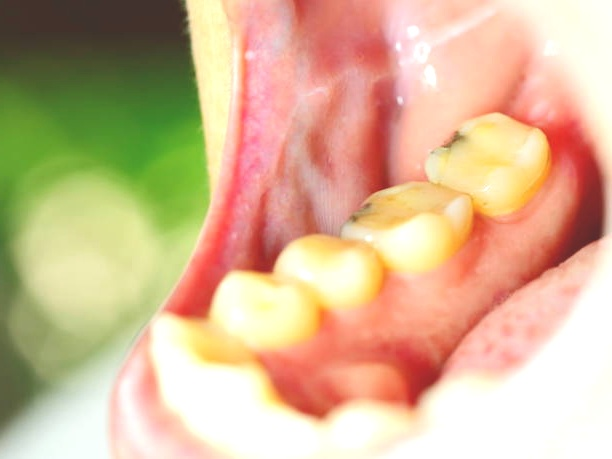Caries: (336, 196, 381, 230), (428, 127, 470, 156)
